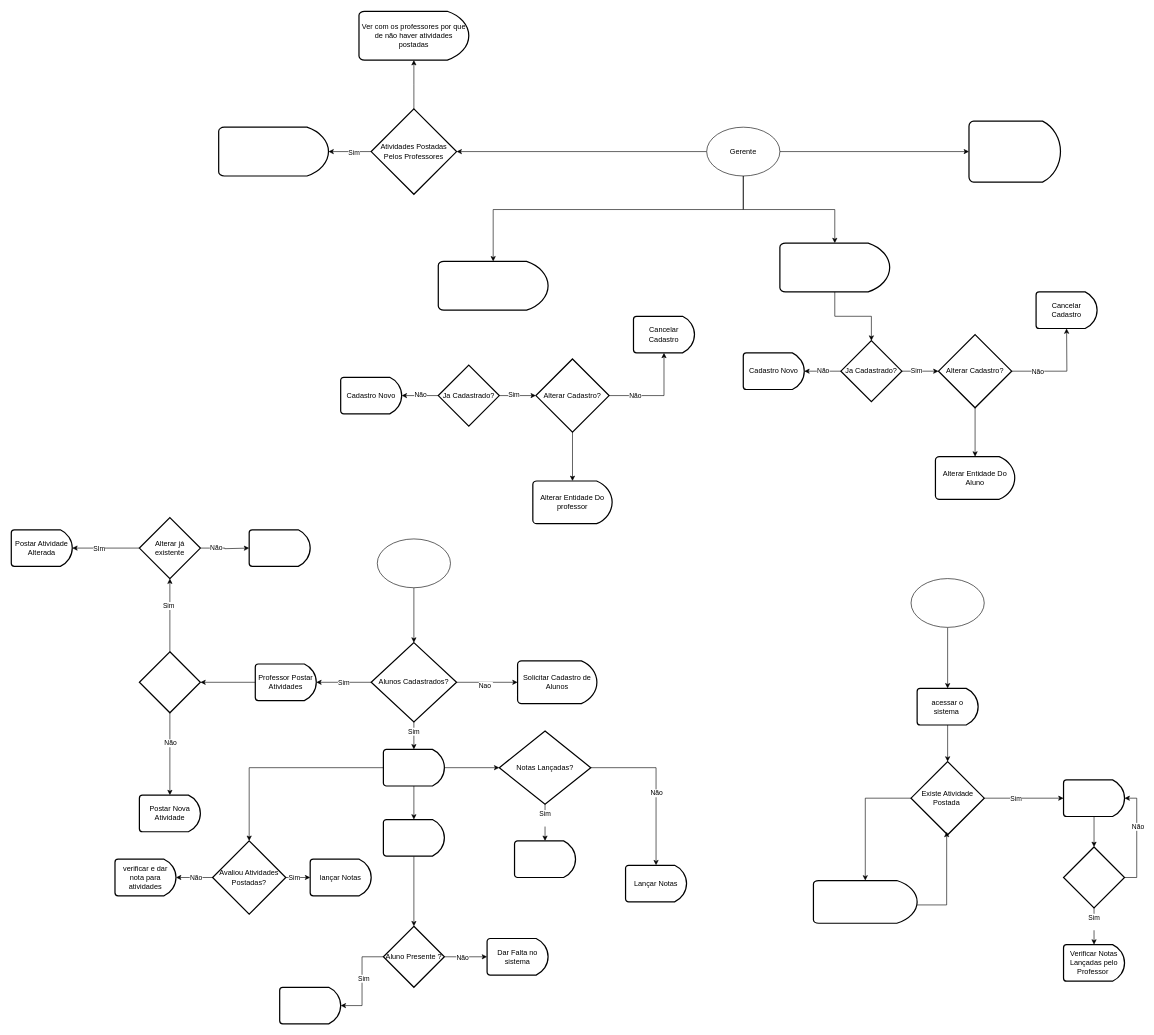
This 1154x1035 diagram has some shape labels left out. The shapes that lost their labels are listed below. From the top down, each one's centre as x and y in pixels, then its label:
At (x=273, y=151): "Verificar Atividades Postadas".
At (x=1014, y=151): "Desativar o Cadastro de Alunos e Professores".
At (x=492, y=285): "Gerentes Cadastrar professores".
At (x=834, y=267): "Gerentes Cadastrar Alunos".
At (x=279, y=548): "Cancelar Envio de Atividade".
At (x=413, y=563): "Professor".
At (x=947, y=602): "Aluno".
At (x=169, y=682): "Atividade Já existe ?".
At (x=413, y=767): "Gerenciar Sala de Aula".
At (x=1094, y=798): "Realizar".
At (x=413, y=837): "Realizar Chamada".
At (x=545, y=859): "Informar alunos sobre as notas".
At (x=1094, y=877): "Atividades Realizada e Provas feitas".
At (x=865, y=902): "Esperar Professor postar".
At (x=310, y=1005): "Dar Presença no sistema".
